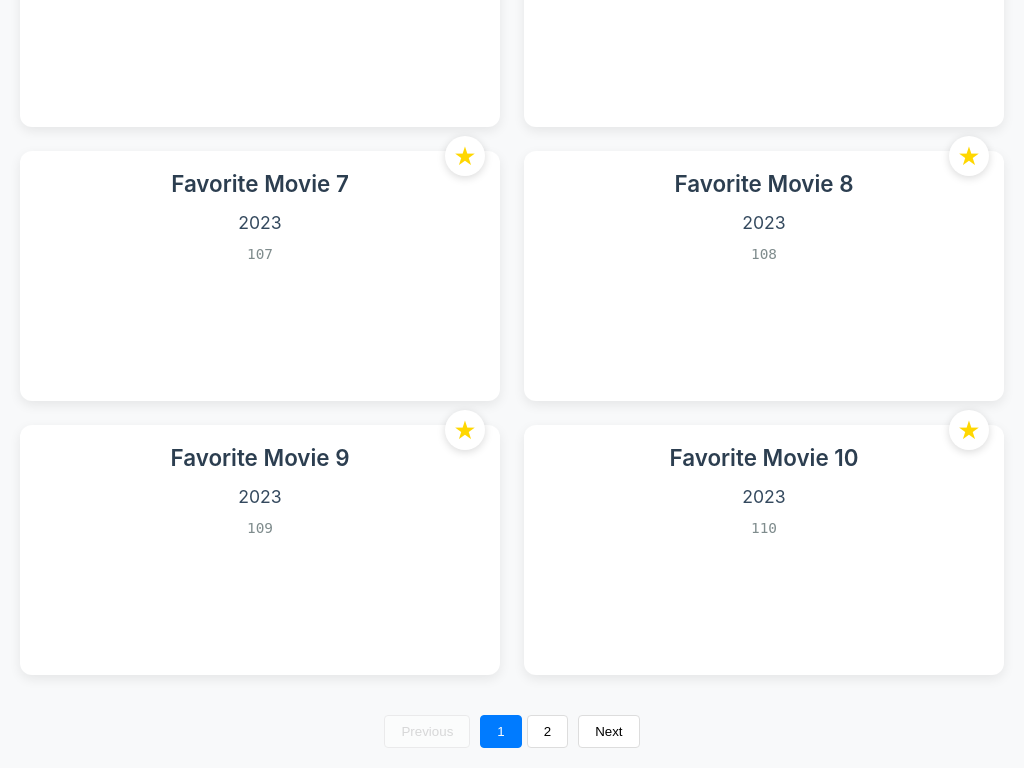
Test: Favorites View › should paginate favorite movies
(page scrolled)
Click the button with class "nextBtn": (609, 732) [578,715,639,748]
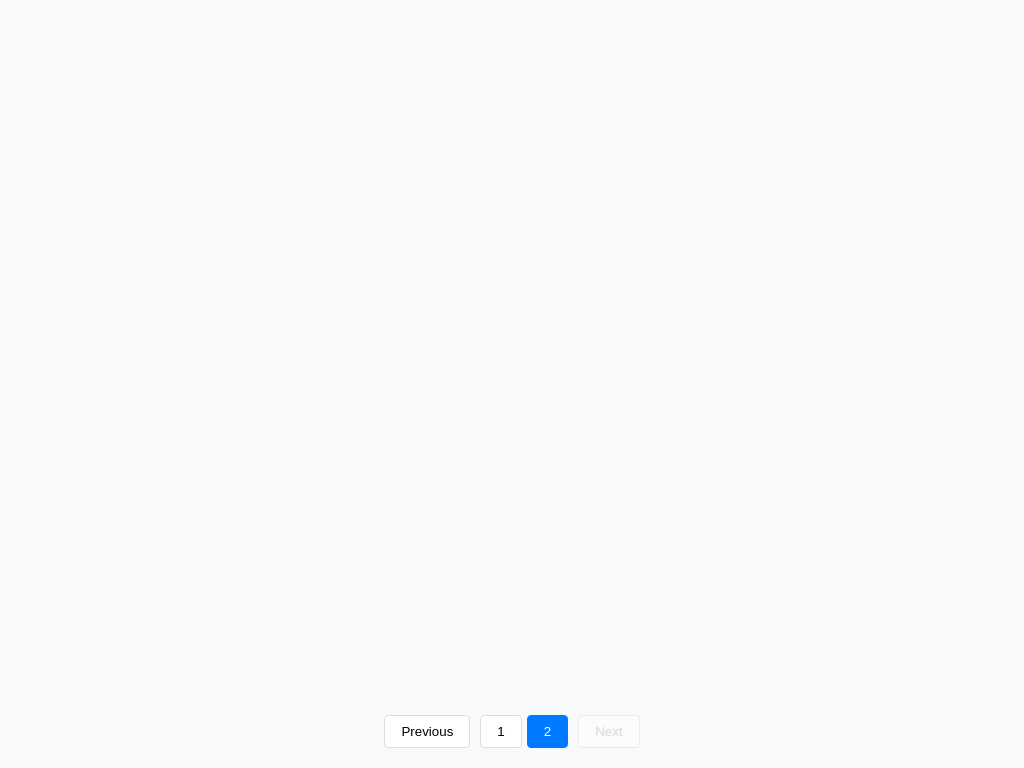
Click the button "Previous": (427, 732) [384,715,470,748]
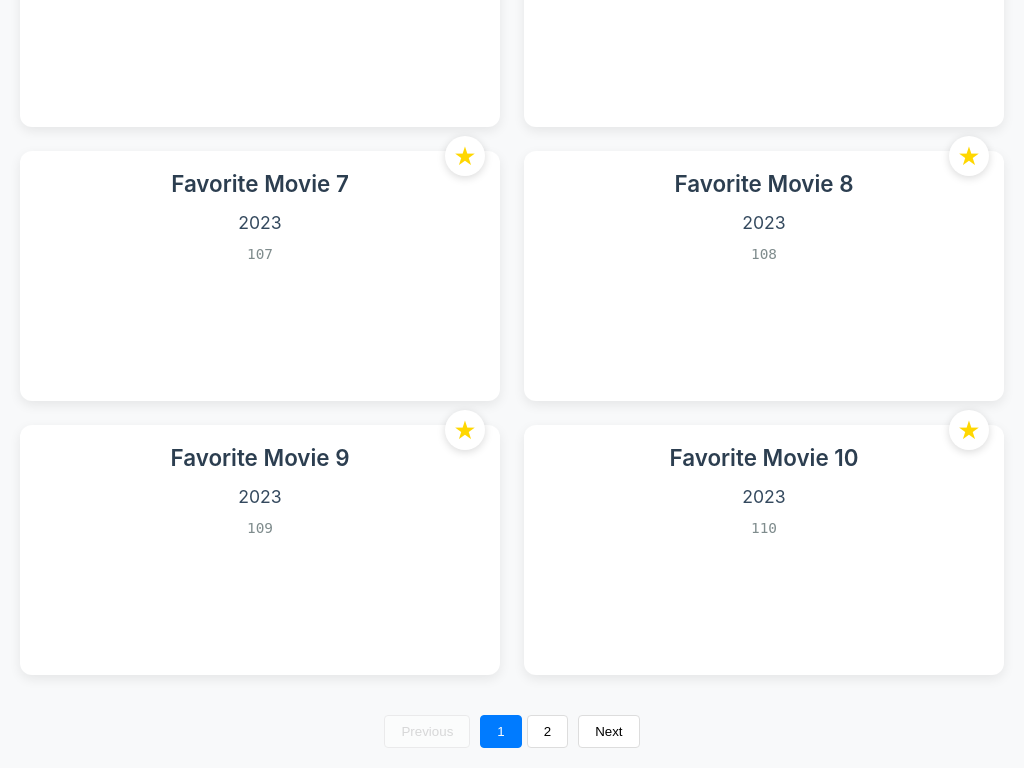
Result: the number of elements with class "movie-card" is 10
Result: the heading "Favorite Movie 10" is shown at [670,444,858,471]
